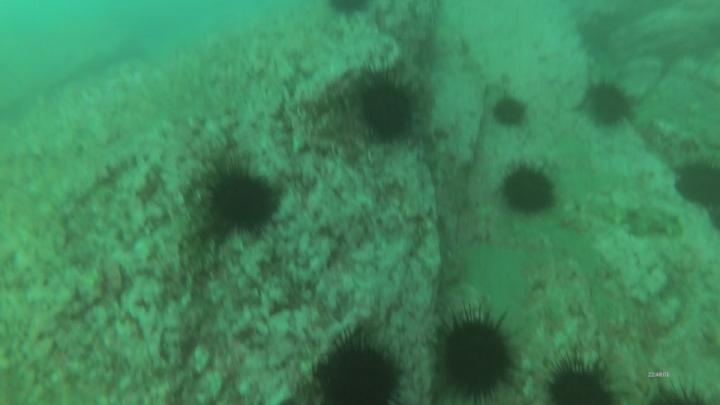echinus: (431, 303, 519, 405), (313, 329, 406, 405), (201, 157, 282, 241), (356, 70, 419, 146), (541, 349, 621, 405), (499, 163, 559, 217), (582, 81, 634, 134), (674, 162, 720, 210), (648, 375, 720, 405), (488, 94, 532, 132), (324, 1, 375, 20)
holothurian: (616, 205, 685, 240)
